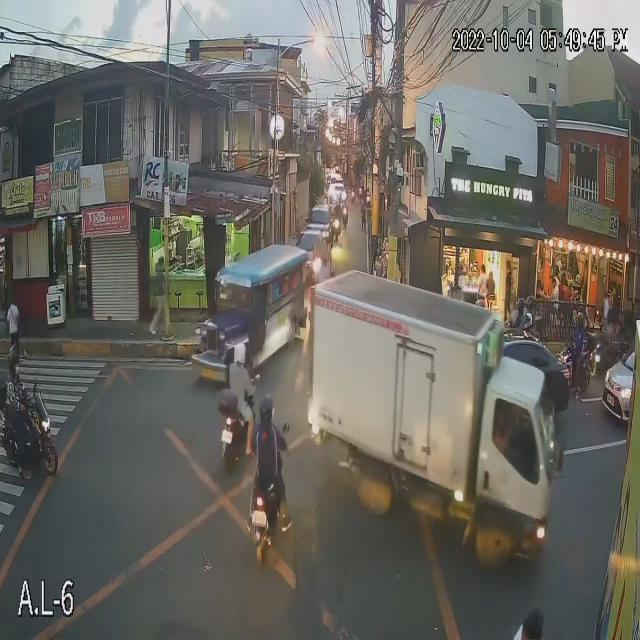helmet: (257, 398, 281, 428), (7, 345, 22, 381), (230, 344, 252, 366), (514, 296, 529, 316), (575, 312, 589, 326), (524, 298, 537, 313)
motorcycle: (242, 464, 292, 554), (0, 394, 57, 472), (217, 392, 256, 470), (556, 343, 600, 394)
rider: (255, 394, 283, 518), (227, 342, 259, 425), (3, 337, 32, 427), (569, 310, 588, 370), (511, 295, 525, 335), (526, 297, 537, 342)
